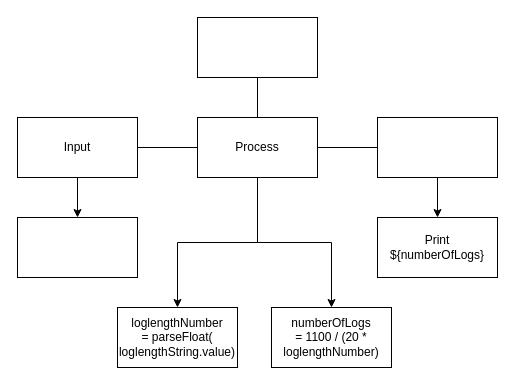
Some shapes in this 515 by 385 pixel diagram are drawn without their labels. Here are the shapes that lost their labels. From the top down, the centre of each, then its label:
At [257,47]: "E=mc^2 program".
At [437,147]: "Output".
At [77,247]: "Get loglengthNumber".
